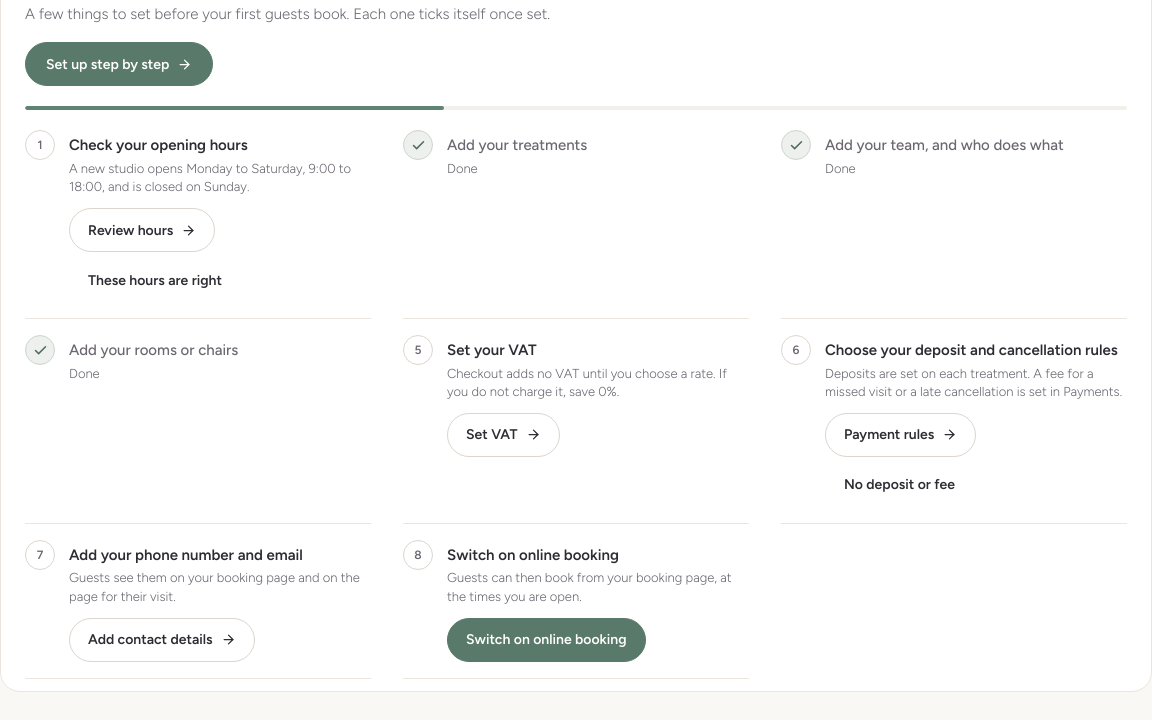
Test: Get your studio ready › says why online booking could not be switched on
(page scrolled)
Click the button "Switch on online booking".
click(546, 640)  # box top-left (447, 618), bottom-right (646, 662)
(page scrolled)
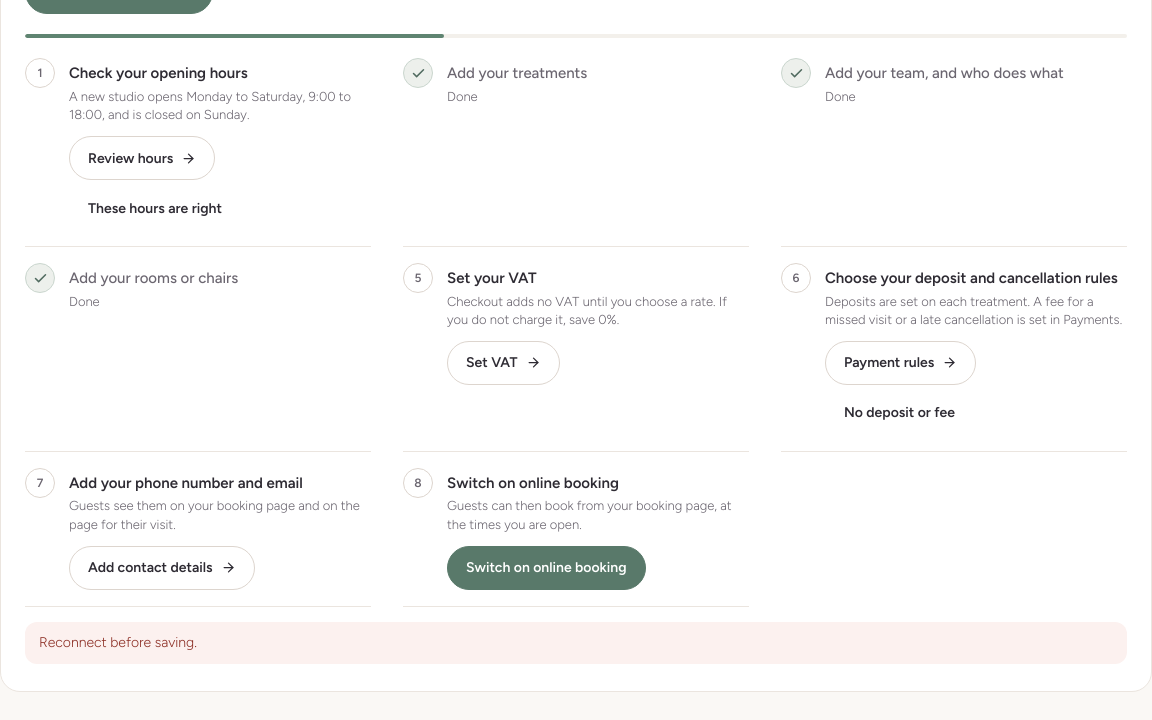
Result: the message reads "Reconnect before saving." at top-left (39, 634), bottom-right (197, 651)
